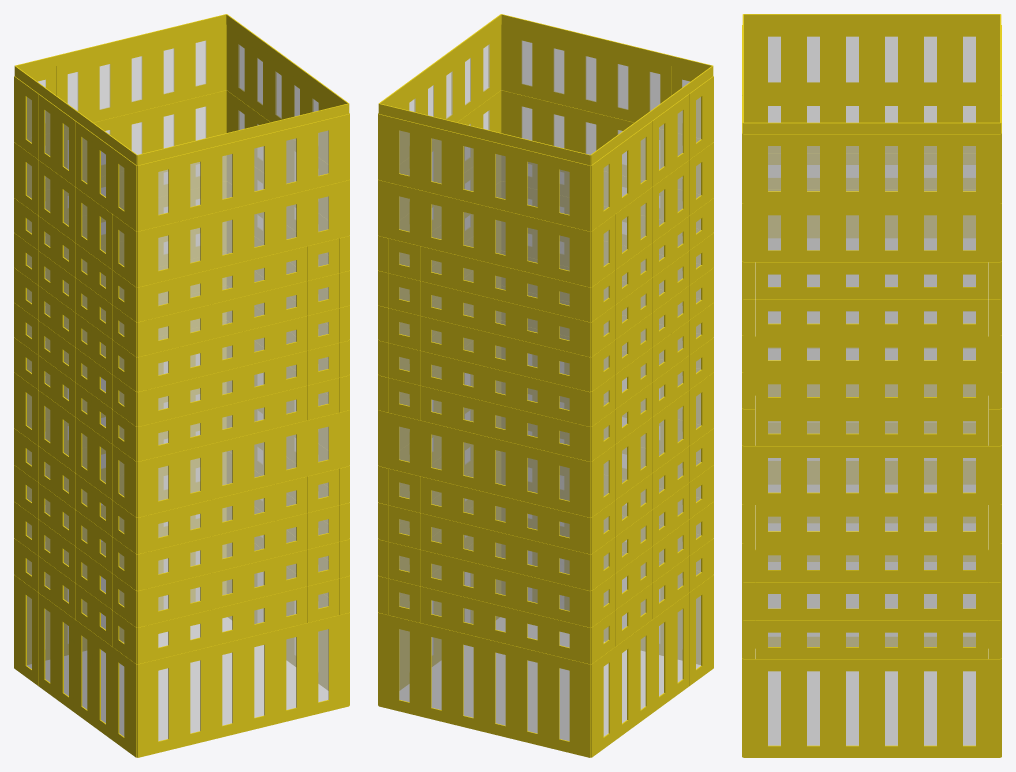
File: FacadeByEnvelope.gltf
The picture shows the model from 3 angles, left to right: view 1: azimuth 30°, elevation 25°; view 2: azimuth 150°, elevation 25°; view 3: azimuth 270°, elevation 25°; orthographic projection. The views are drawn at different scales.
Parts seen in each view (by area): view 1: 93abc575-bd56-430a-b950-5eb42c64f3af_mesh (×6), 617eeda3-44f2-44c2-91ef-f24bf494b608_mesh (×6), f778fbd3-ed03-49dd-bfe4-6e0ceaeaa002_mesh (×6), 8e89478c-533c-4f95-92e8-c8a3af949a0c_mesh (×6), bbb9ad96-8323-49bd-abe6-f23d373b68b9_mesh (×6), 3de40546-5cad-4359-a683-43a07db1a973_mesh (×6), a45885b4-85eb-4b55-b1c4-97a20ef7f39f_mesh (×6), 5ccf19bb-fae4-446e-8e76-9875ea3f2ee7_mesh (×6), ee8fbce2-4991-4058-beb1-2f487db672ca_mesh (×6), ea7865f0-660c-4f47-b9a5-8b3dd152f542_mesh (×6), 3fcee6b2-5302-40c2-b6d9-78a7dc02674c_mesh (×6), 2227f10a-f458-4b59-8ab6-bb43088bc526_mesh (×6) (+34 smaller); view 2: 6d843ac3-fb8c-41e7-808b-46c1cba40041_mesh (×6), 3de40546-5cad-4359-a683-43a07db1a973_mesh (×6), 593b883b-0066-4954-bdab-89fcc714d8cb_mesh (×6), 0679ff44-dcef-4d6e-b642-c7c6b9a18b79_mesh (×6), bbb9ad96-8323-49bd-abe6-f23d373b68b9_mesh (×6), 617eeda3-44f2-44c2-91ef-f24bf494b608_mesh (×6), d33590b9-9e2e-4bd4-a849-a43fb0a5a5d7_mesh (×6), 95e1c013-47b9-4845-a241-92eb5c076247_mesh (×6), 47d8b491-afd9-46aa-bfac-11b34e609903_mesh (×6), 163f86a0-c9aa-4555-8dd1-11eb6415b648_mesh (×6), 3fcee6b2-5302-40c2-b6d9-78a7dc02674c_mesh (×6), c4c28ffa-693a-4c3e-aeb9-f0e0f75ef197_mesh (×6) (+34 smaller); view 3: 52e0001d-9bd3-4876-8a8f-805ca1112d2a_mesh (×6), 2e7e3711-56db-45c7-bed5-661c78e00dc0_mesh (×6), 3fcee6b2-5302-40c2-b6d9-78a7dc02674c_mesh (×6), b943a908-bc8d-43cf-8716-dba76e89f959_mesh (×6), 7f5ca8f4-4997-4d40-a173-6aa48c493305_mesh (×6), 7c982e7d-df91-4ac4-ae6f-44780c399bd0_mesh (×6), 9406f3b1-67a3-4683-92cf-ecbb547463cc_mesh (×6), 3820662f-b9d5-47bb-b423-fee9e06b4342_mesh (×6), 3f4dbc4a-fb71-4b54-b67d-278f34af4b0f_mesh (×6), 1a09aab1-0e5a-4ecd-80a6-5332acb410ed_mesh (×6), cf3ec909-8a83-4b6f-93b9-721f7bc19741_mesh (×6), 6515d174-a5b9-4f07-a7d1-f6766a2d18d7_mesh (×6) (+30 smaller).
Boxes of the visible parts, <box> form: 93abc575-bd56-430a-b950-5eb42c64f3af_mesh (×6): <box>147,615,339,755</box>; 617eeda3-44f2-44c2-91ef-f24bf494b608_mesh (×6): <box>147,116,339,228</box>; f778fbd3-ed03-49dd-bfe4-6e0ceaeaa002_mesh (×6): <box>147,182,339,284</box>; 8e89478c-533c-4f95-92e8-c8a3af949a0c_mesh (×6): <box>147,412,339,514</box>; bbb9ad96-8323-49bd-abe6-f23d373b68b9_mesh (×6): <box>19,579,130,753</box>; 3de40546-5cad-4359-a683-43a07db1a973_mesh (×6): <box>26,27,216,138</box>; a45885b4-85eb-4b55-b1c4-97a20ef7f39f_mesh (×6): <box>147,468,339,551</box>; 5ccf19bb-fae4-446e-8e76-9875ea3f2ee7_mesh (×6): <box>147,578,339,661</box>; ee8fbce2-4991-4058-beb1-2f487db672ca_mesh (×6): <box>147,542,339,624</box>; ea7865f0-660c-4f47-b9a5-8b3dd152f542_mesh (×6): <box>147,505,339,588</box>; 3fcee6b2-5302-40c2-b6d9-78a7dc02674c_mesh (×6): <box>19,80,130,226</box>; 2227f10a-f458-4b59-8ab6-bb43088bc526_mesh (×6): <box>147,238,339,319</box>; 6d843ac3-fb8c-41e7-808b-46c1cba40041_mesh (×6): <box>388,615,580,755</box>; 3de40546-5cad-4359-a683-43a07db1a973_mesh (×6): <box>388,116,580,228</box>; 593b883b-0066-4954-bdab-89fcc714d8cb_mesh (×6): <box>388,182,580,284</box>; 0679ff44-dcef-4d6e-b642-c7c6b9a18b79_mesh (×6): <box>388,412,580,514</box>; bbb9ad96-8323-49bd-abe6-f23d373b68b9_mesh (×6): <box>597,579,708,753</box>; 617eeda3-44f2-44c2-91ef-f24bf494b608_mesh (×6): <box>511,27,701,138</box>; d33590b9-9e2e-4bd4-a849-a43fb0a5a5d7_mesh (×6): <box>388,468,580,551</box>; 95e1c013-47b9-4845-a241-92eb5c076247_mesh (×6): <box>388,578,580,661</box>; 47d8b491-afd9-46aa-bfac-11b34e609903_mesh (×6): <box>388,542,580,624</box>; 163f86a0-c9aa-4555-8dd1-11eb6415b648_mesh (×6): <box>388,505,580,588</box>; 3fcee6b2-5302-40c2-b6d9-78a7dc02674c_mesh (×6): <box>597,80,708,226</box>; c4c28ffa-693a-4c3e-aeb9-f0e0f75ef197_mesh (×6): <box>388,238,580,319</box>; 52e0001d-9bd3-4876-8a8f-805ca1112d2a_mesh (×6): <box>755,659,988,757</box>; 2e7e3711-56db-45c7-bed5-661c78e00dc0_mesh (×6): <box>755,134,988,203</box>; 3fcee6b2-5302-40c2-b6d9-78a7dc02674c_mesh (×6): <box>755,25,988,94</box>; b943a908-bc8d-43cf-8716-dba76e89f959_mesh (×6): <box>755,203,988,262</box>; 7f5ca8f4-4997-4d40-a173-6aa48c493305_mesh (×6): <box>755,446,988,504</box>; 7c982e7d-df91-4ac4-ae6f-44780c399bd0_mesh (×6): <box>755,620,988,659</box>; 9406f3b1-67a3-4683-92cf-ecbb547463cc_mesh (×6): <box>755,582,988,620</box>; 3820662f-b9d5-47bb-b423-fee9e06b4342_mesh (×6): <box>755,543,988,581</box>; 3f4dbc4a-fb71-4b54-b67d-278f34af4b0f_mesh (×6): <box>755,505,988,543</box>; 1a09aab1-0e5a-4ecd-80a6-5332acb410ed_mesh (×6): <box>755,372,988,409</box>; cf3ec909-8a83-4b6f-93b9-721f7bc19741_mesh (×6): <box>755,409,988,445</box>; 6515d174-a5b9-4f07-a7d1-f6766a2d18d7_mesh (×6): <box>755,336,988,372</box>.
Bounding box in the file's own units: 20.01 × 53.89 × 20.01.
